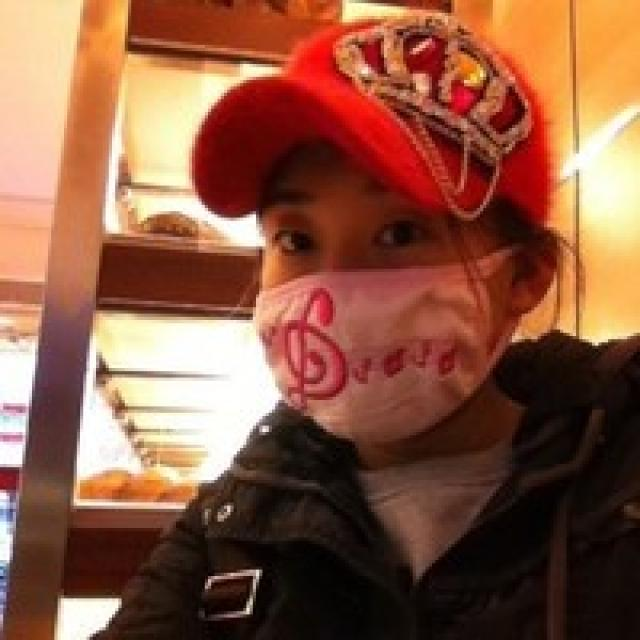mask: (251, 142, 504, 440)
